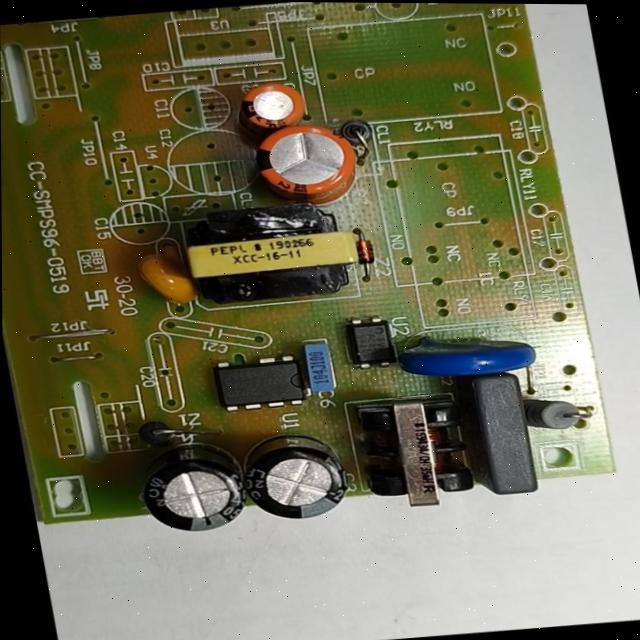Cap1: (250, 121, 365, 208)
Cap2: (238, 79, 310, 131)
Cap3: (237, 429, 354, 525)
Cap4: (132, 437, 252, 540)
MOSFET: (210, 352, 311, 415)
Mov: (393, 330, 541, 383)
Resistor: (522, 390, 599, 435)
Transformer: (172, 199, 369, 308), (346, 389, 488, 518)
